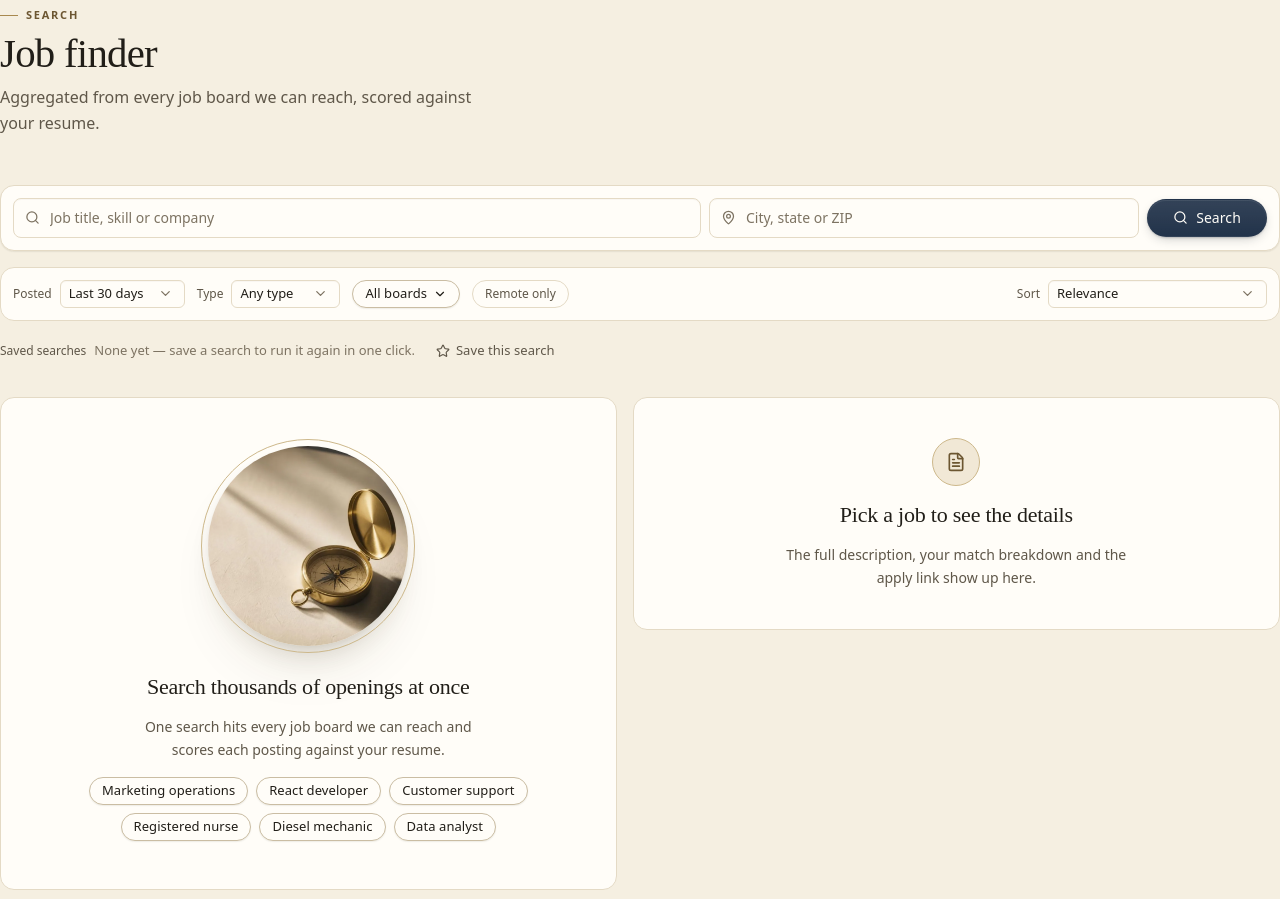
Test: JobFinder empty and error states › prompts with example searches before anything has been searched
Check: the text "Search thousands of openings at once" is shown, box x1=147 y1=670 x2=470 y2=703
Click the button "React developer".
click(319, 791)  # box x1=256 y1=777 x2=381 y2=805
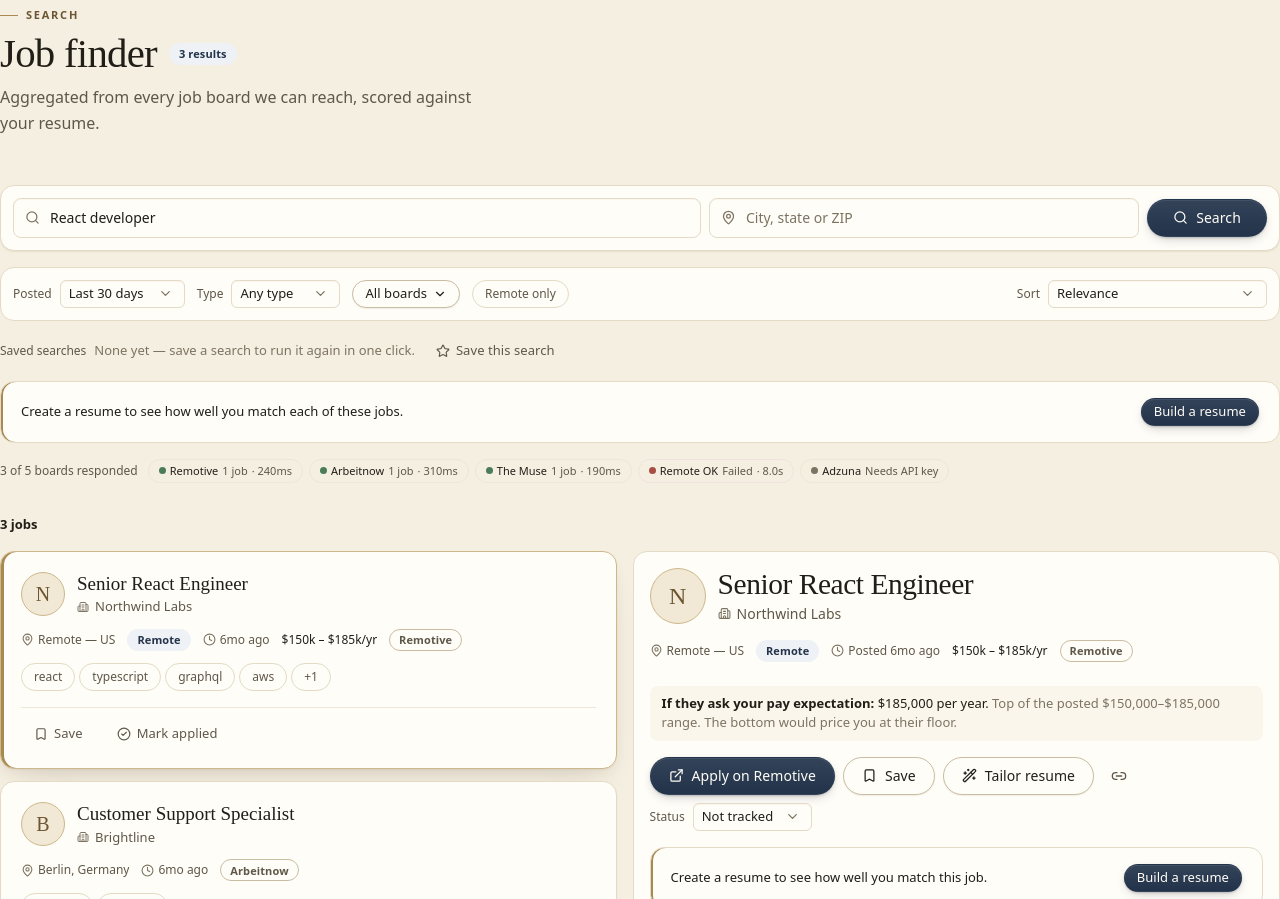
Check: the button "Senior React Engineer" is shown, box x1=77 y1=572 x2=248 y2=595
